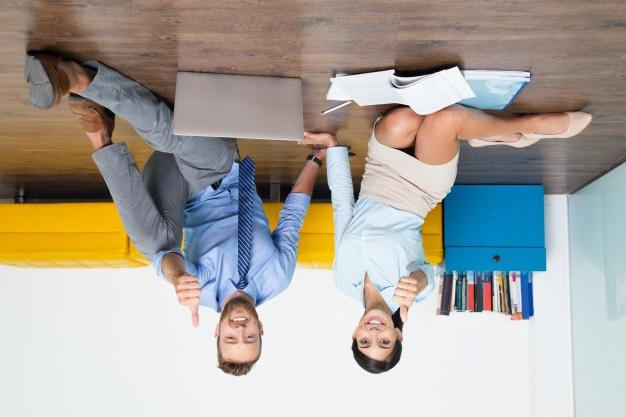thumbsdown: (175, 275, 200, 327), (393, 277, 418, 322)
